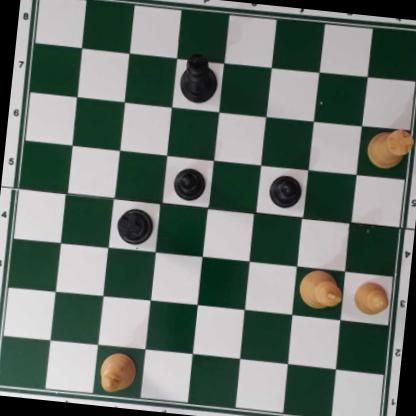black-king: (178, 50, 220, 104)
black-pawn: (170, 165, 208, 203), (267, 172, 304, 210)
black-rook: (115, 206, 156, 245)
white-bishop: (96, 349, 137, 394)
white-king: (297, 267, 345, 312)
white-pawn: (352, 280, 391, 316)
white-rook: (365, 125, 416, 170)
